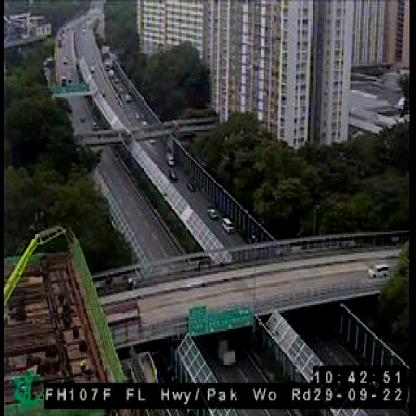Bus: (220, 215, 238, 236)
Car: (204, 204, 218, 219), (165, 164, 179, 178), (162, 152, 176, 164), (185, 178, 196, 192)
